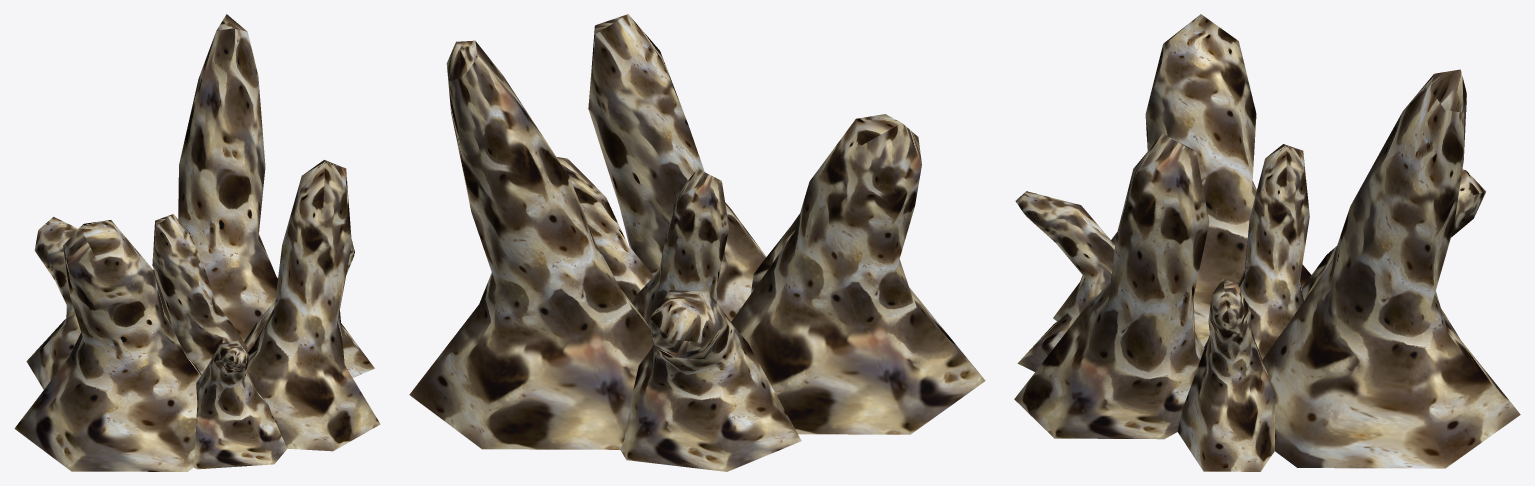
The model's file is CoralStone-05_LOD0.fbx.
The picture shows the model from 3 angles, left to right: view 1: azimuth 30°, elevation 25°; view 2: azimuth 150°, elevation 25°; view 3: azimuth 270°, elevation 25°; orthographic projection. The views are drawn at different scales.
Parts seen in each view (by area): view 1: CoralStone-05_high; view 2: CoralStone-05_high; view 3: CoralStone-05_high.
Part boxes in pixels (<box>): CoralStone-05_high: <box>14,14,380,471</box>; CoralStone-05_high: <box>409,14,985,471</box>; CoralStone-05_high: <box>1014,14,1520,471</box>.
Bounding box in the file's own units: 0.2087 × 0.1746 × 0.2152.
